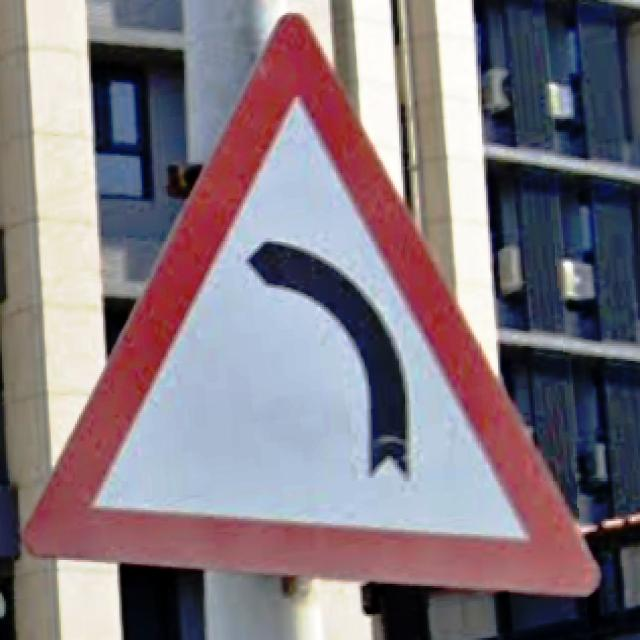leftbend: (22, 13, 602, 603)
